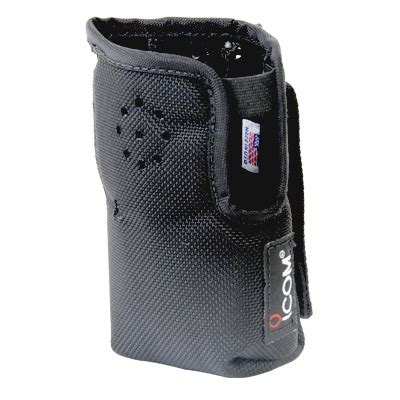nylon: (87, 16, 314, 379)
